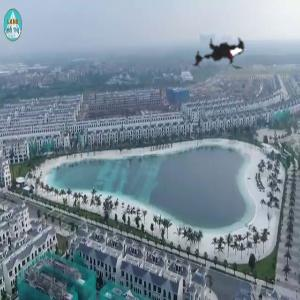drone: (178, 16, 265, 103)
